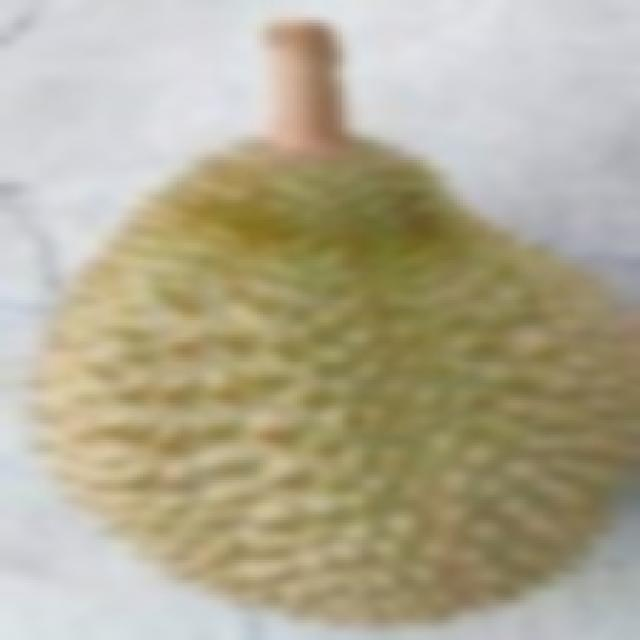d2: (65, 44, 602, 596)
